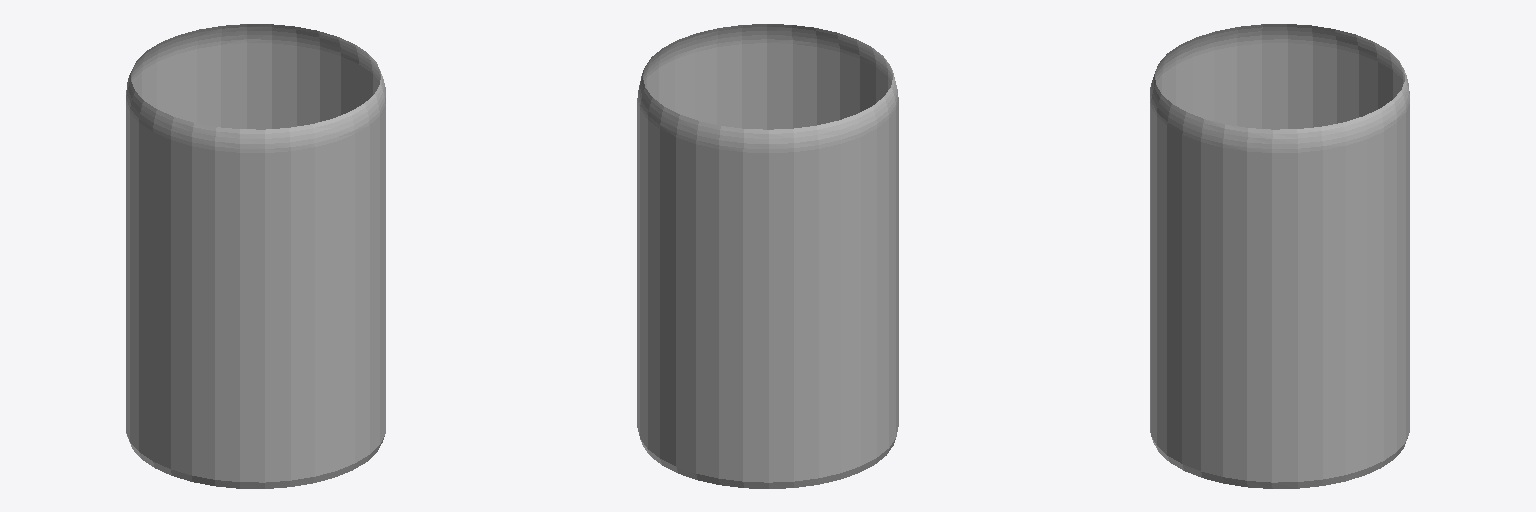
Rendered from can_001.obj.
3 views of the same model, side by side, from view 1: azimuth 30°, elevation 25°; view 2: azimuth 150°, elevation 25°; view 3: azimuth 270°, elevation 25° (orthographic).
Parts seen in each view (by area): view 1: can.001; view 2: can.001; view 3: can.001.
Part boxes in pixels (left/top/right/bottom): can.001: left=126, top=24, right=385, bottom=488; can.001: left=637, top=24, right=898, bottom=488; can.001: left=1150, top=24, right=1409, bottom=488.
Size of the model in its own units: 4.54 by 6.89 by 4.54.